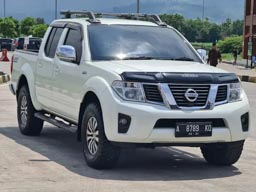plat: (174, 123, 213, 133)
